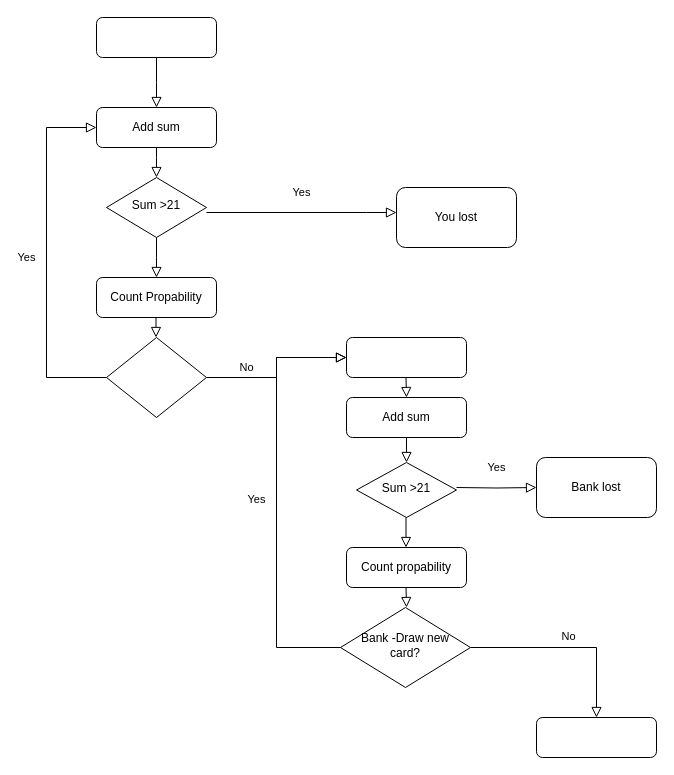
Image size: 674x775. Some labels were removed from this diagram. Each missing label, with the centre of its shape:
"Bank -draw" goes at point 406,357.
"Compair sum" goes at point 596,737.
"Draw card" goes at point 156,37.
"Draw new card?" goes at point 156,377.
